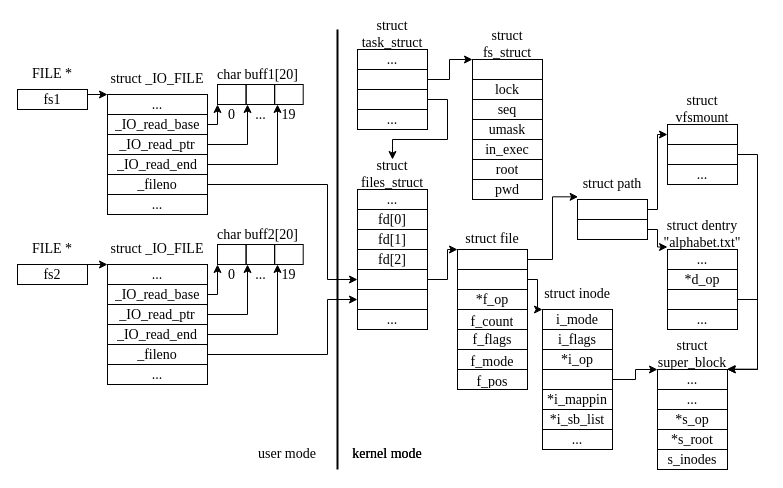
This 783x488 diagram has some shape labels left out. The shapes that lost their labels are listed below. From the top down, each one's centre as x and y in pixels, then its label:
(x=392, y=79): *fs
(x=507, y=69): users
(x=392, y=99): *files
(x=702, y=134): *mnt_root
(x=702, y=154): *mnt_sb
(x=612, y=209): *mnt
(x=612, y=229): *dentry
(x=392, y=279): fd[3]
(x=492, y=259): f_path
(x=492, y=279): f_inode
(x=392, y=299): fd[4]
(x=702, y=299): *d_sb
(x=577, y=379): *i_sb
